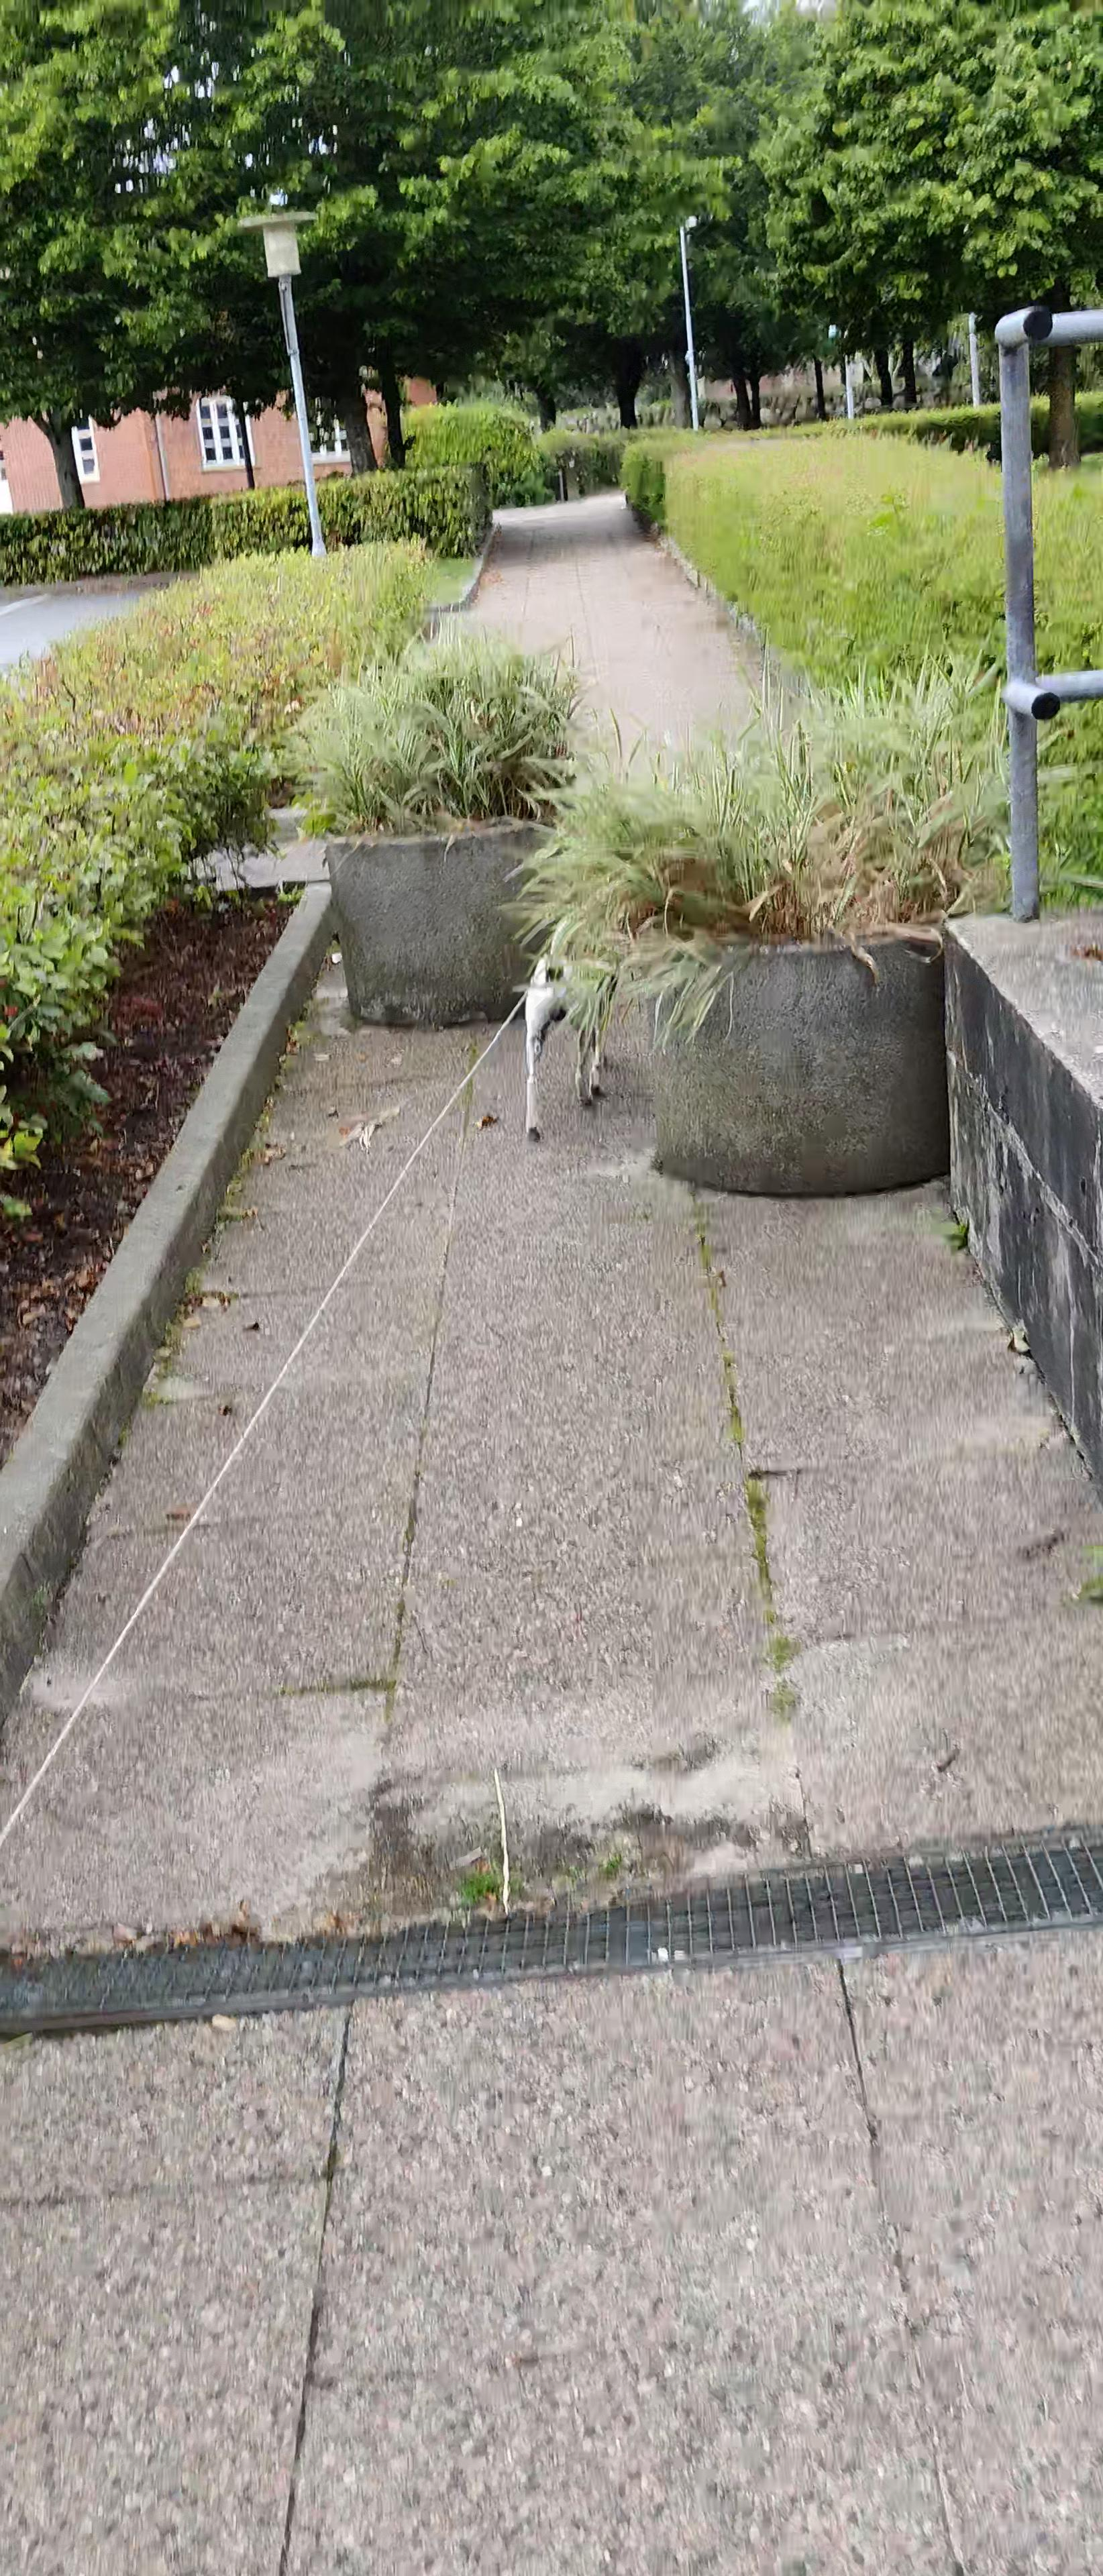Dog: (519, 907, 626, 1145)
